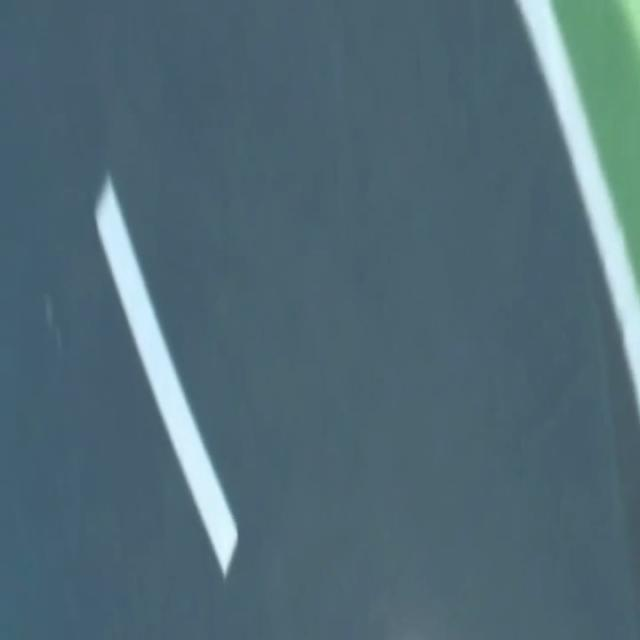center: (96, 175, 237, 576)
right: (516, 0, 639, 414)
